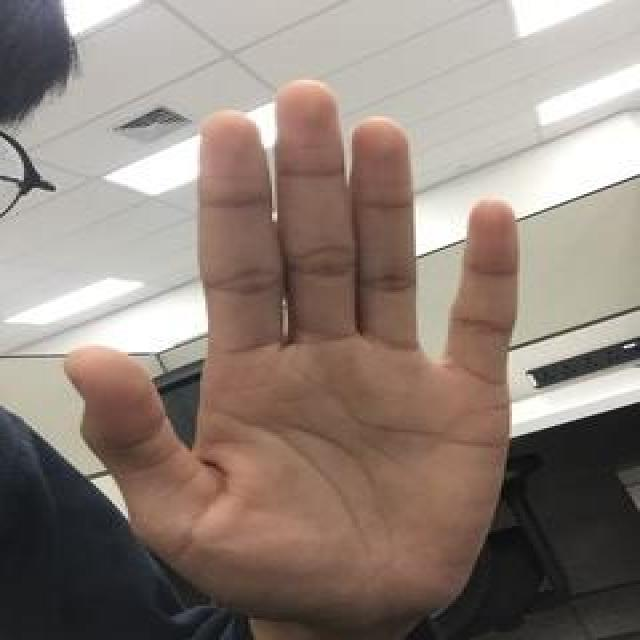hand: (57, 75, 527, 635)
